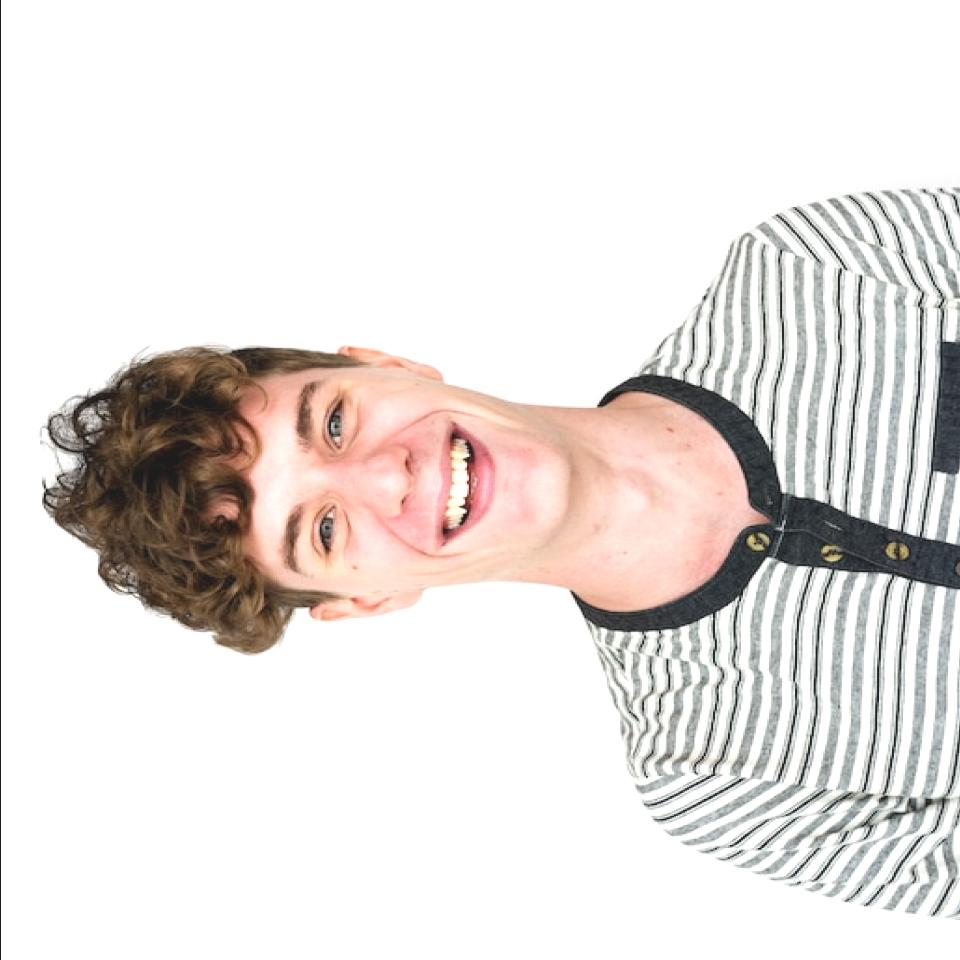Happiness: (262, 377, 567, 588)
